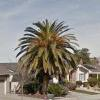Palm tree: (13, 11, 75, 97)
